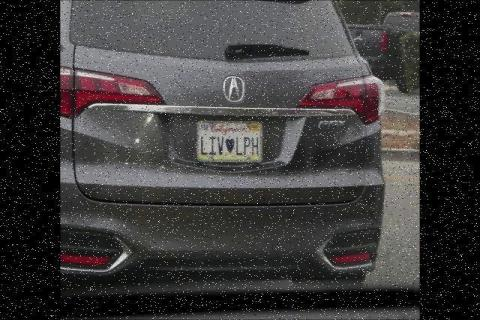LicensePlate: (196, 111, 266, 165)
